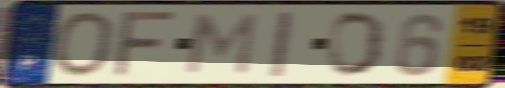6: (393, 10, 445, 78)
F: (109, 9, 183, 79)
I: (267, 9, 296, 79)
M: (182, 12, 261, 77)
O: (49, 9, 117, 79), (326, 9, 389, 79)
